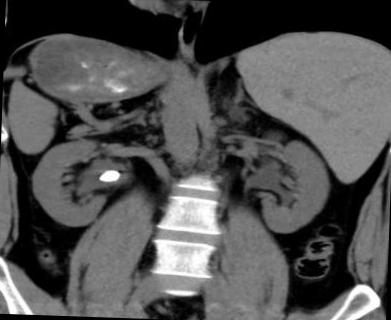Tas_Var: (96, 166, 122, 186)
